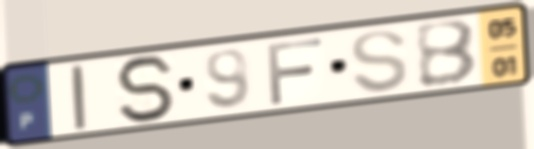9: (201, 47, 253, 112)
B: (411, 17, 480, 91)
F: (263, 35, 326, 107)
I: (66, 62, 90, 134)
S: (112, 53, 181, 126), (348, 27, 412, 95)
